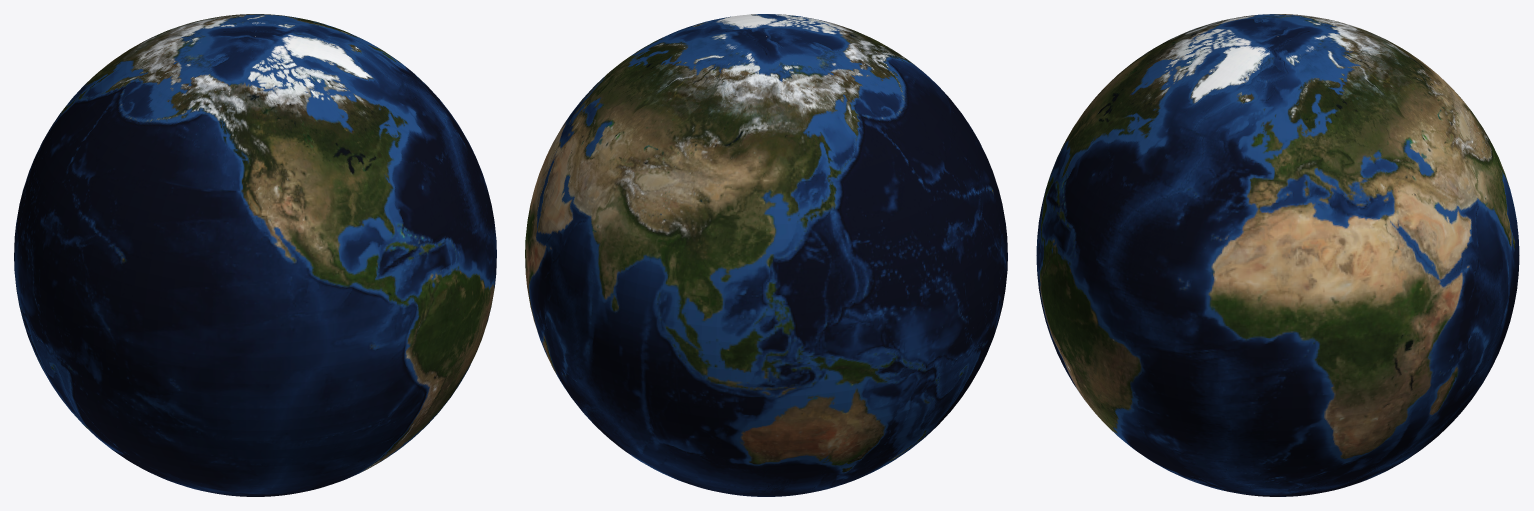
The model's file is globe.glb.
3 renders of one model, left to right at view 1: azimuth 30°, elevation 25°; view 2: azimuth 150°, elevation 25°; view 3: azimuth 270°, elevation 25°, orthographic.
Parts seen in each view (by area): view 1: Sphere; view 2: Sphere; view 3: Sphere.
Part boxes in pixels (x1,y1,x2,y2): Sphere: (14,14,496,496); Sphere: (525,14,1007,496); Sphere: (1036,14,1519,496).
Bounding box in the file's own units: 2 × 2 × 2.
Materials: 1 (1 with a texture image).
